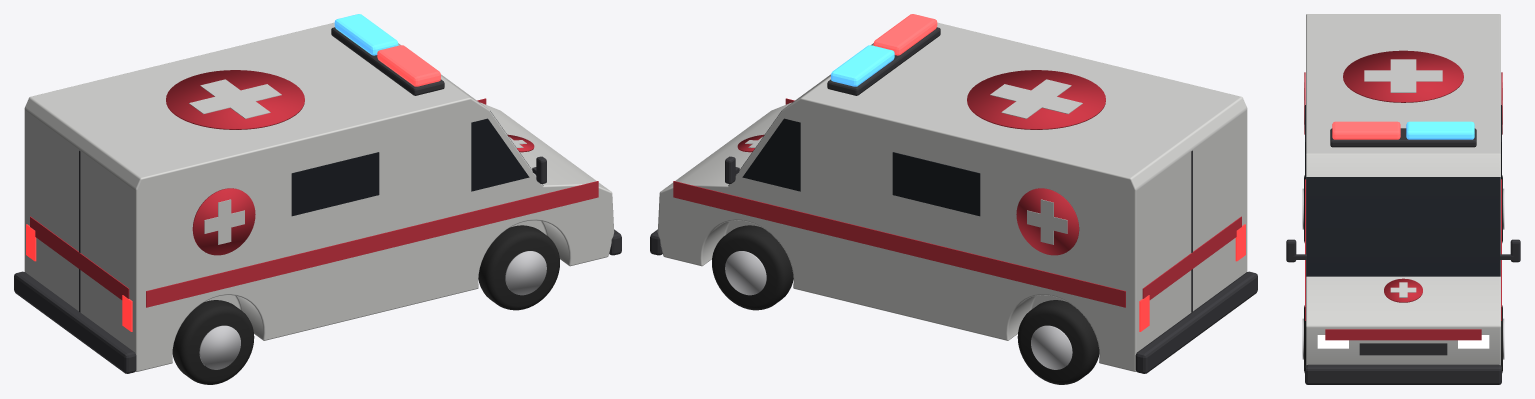
Rendered from ambulance.glb.
3 renders of one model, left to right at view 1: azimuth 30°, elevation 25°; view 2: azimuth 150°, elevation 25°; view 3: azimuth 270°, elevation 25°, orthographic. The views are drawn at different scales.
Visible parts, largest first — view 1: Body, Stripe.-1, RoofCross.Disc, Tire.0, Tire.2, RearWindow.-1, BumperRear, CabWindow.-1, SideCross.-1.Disc, Stripe.Rear, LightRed, Hub.2 (+6 smaller); view 2: Body, Stripe.1, RoofCross.Disc, Tire.1, Tire.3, RearWindow.1, BumperRear, CabWindow.1, SideCross.1.Disc, Stripe.Rear, LightBlue, Hub.3 (+6 smaller); view 3: Body, BumperFront, RoofCross.Disc, Stripe.Front, LightBarBase, LightBlue, LightRed, Grille, RoofCross.CrossB, RoofCross.CrossA, HoodCross.Disc, Headlight.1 (+3 smaller).
Boxes of the visible parts, bbox=[...] form: Body: bbox=[24, 22, 614, 371]; Stripe.-1: bbox=[146, 181, 598, 307]; RoofCross.Disc: bbox=[166, 70, 304, 129]; Tire.0: bbox=[478, 225, 559, 310]; Tire.2: bbox=[172, 300, 254, 384]; RearWindow.-1: bbox=[291, 152, 379, 216]; BumperRear: bbox=[14, 271, 136, 373]; CabWindow.-1: bbox=[471, 118, 529, 191]; SideCross.-1.Disc: bbox=[192, 188, 255, 255]; Stripe.Rear: bbox=[30, 216, 129, 299]; LightRed: bbox=[377, 45, 440, 86]; Hub.2: bbox=[199, 325, 240, 369]; Body: bbox=[657, 22, 1247, 371]; Stripe.1: bbox=[673, 181, 1125, 307]; RoofCross.Disc: bbox=[967, 70, 1105, 129]; Tire.1: bbox=[712, 225, 793, 310]; Tire.3: bbox=[1017, 300, 1099, 384]; RearWindow.1: bbox=[892, 152, 980, 216]; BumperRear: bbox=[1135, 271, 1257, 373]; CabWindow.1: bbox=[742, 118, 800, 191]; SideCross.1.Disc: bbox=[1016, 188, 1079, 255]; Stripe.Rear: bbox=[1142, 216, 1241, 299]; LightBlue: bbox=[831, 45, 894, 86]; Hub.3: bbox=[1031, 325, 1072, 369]; Body: bbox=[1306, 14, 1500, 365]; BumperFront: bbox=[1305, 364, 1501, 384]; RoofCross.Disc: bbox=[1343, 50, 1463, 102]; Stripe.Front: bbox=[1325, 329, 1481, 340]; LightBarBase: bbox=[1330, 128, 1476, 147]; LightBlue: bbox=[1406, 121, 1474, 139]; LightRed: bbox=[1332, 121, 1400, 139]; Grille: bbox=[1359, 343, 1447, 355]; RoofCross.CrossB: bbox=[1364, 70, 1442, 81]; RoofCross.CrossA: bbox=[1390, 59, 1416, 92]; HoodCross.Disc: bbox=[1384, 278, 1422, 302]; Headlight.1: bbox=[1458, 335, 1489, 348].
Bounding box in the file's own units: 5.12 × 2.4 × 2.4.
